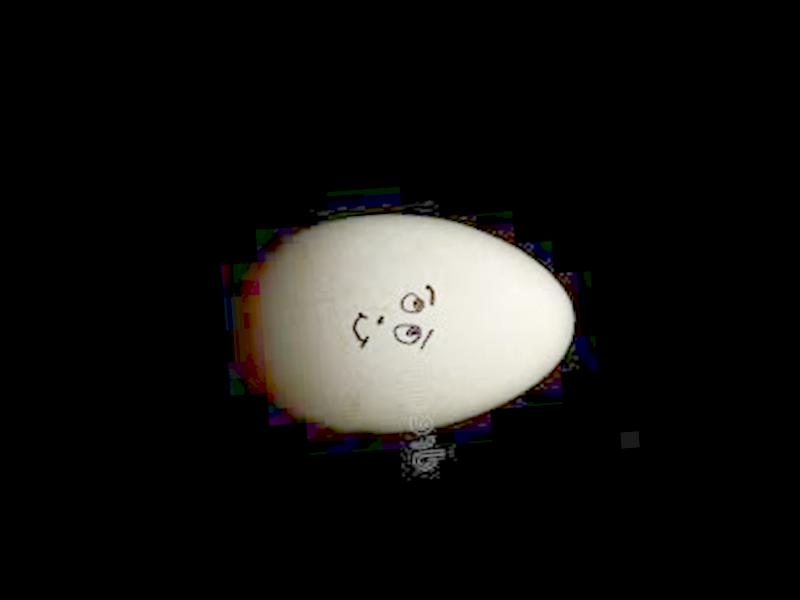Eggs: (245, 203, 581, 439)
